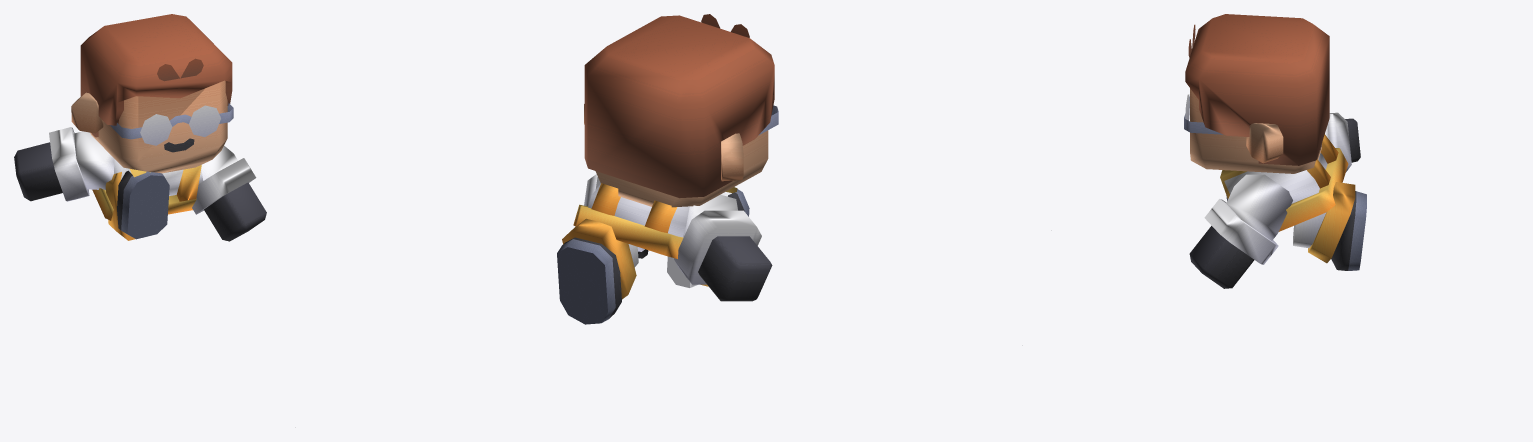
The model's file is builder_sprint_7.glb.
3 renders of one model, left to right at view 1: azimuth 30°, elevation 25°; view 2: azimuth 150°, elevation 25°; view 3: azimuth 270°, elevation 25°, orthographic. The views are drawn at different scales.
Visible parts, largest first — view 1: builder-sprint-7; view 2: builder-sprint-7; view 3: builder-sprint-7.
Boxes of the visible parts, bbox=[...] form: builder-sprint-7: bbox=[14, 14, 266, 241]; builder-sprint-7: bbox=[557, 14, 778, 324]; builder-sprint-7: bbox=[1184, 14, 1366, 288].
Bounding box in the file's own units: 1.2 × 0.8259 × 1.2.
1 material, 1 textured.
